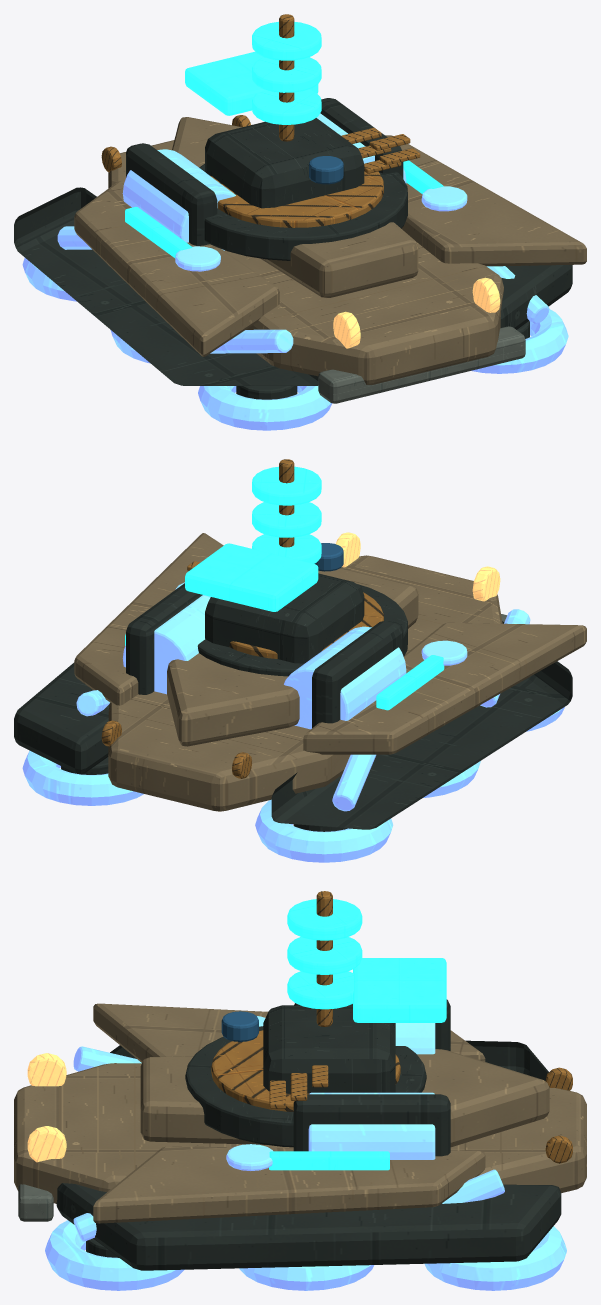
File: lumen_scout.glb
3 renders of one model, top to bottom at view 1: azimuth 30°, elevation 25°; view 2: azimuth 150°, elevation 25°; view 3: azimuth 270°, elevation 25°, orthographic. The views are drawn at different scales.
Parts seen in each view (by area): view 1: Faction detail · Vehicle / armor_light.008, Faction detail · Vehicle / dark.008, Prisma · swept faceted hover hull, Faction detail · Vehicle / energy.002, Faction detail · Vehicle / dark.001, TeamColor flank details, Indexed azimuth bearing, Forward aerodynamic splitter, TeamColor, TeamColor flank details.001, Faction detail · Vehicle / hazard.008, Faction detail · Vehicle / amber.008 (+3 smaller); view 2: Faction detail · Vehicle / armor_light.008, Faction detail · Vehicle / dark.008, Prisma · swept faceted hover hull, Faction detail · Vehicle / energy.002, Faction detail · Vehicle / dark.001, TeamColor, TeamColor flank details, TeamColor flank details.001, Faction detail · Vehicle / amber.008, Indexed azimuth bearing, Faction detail · Vehicle / red.008, Tri-band target sensor (+1 smaller); view 3: Faction detail · Vehicle / armor_light.008, Faction detail · Vehicle / dark.008, Prisma · swept faceted hover hull, Faction detail · Vehicle / energy.002, Faction detail · Vehicle / dark.001, TeamColor flank details, TeamColor, Indexed azimuth bearing, TeamColor flank details.001, Faction detail · Vehicle / amber.008, Faction detail · Vehicle / hazard.008, Forward aerodynamic splitter (+3 smaller).
Boxes of the visible parts, x1,y1,x2,y2 form: Faction detail · Vehicle / armor_light.008: (74, 117, 586, 356); Faction detail · Vehicle / dark.008: (14, 98, 572, 399); Prisma · swept faceted hover hull: (108, 140, 503, 384); Faction detail · Vehicle / energy.002: (22, 113, 568, 430); Faction detail · Vehicle / dark.001: (199, 118, 407, 260); TeamColor flank details: (252, 21, 321, 124); Indexed azimuth bearing: (210, 171, 383, 227); Forward aerodynamic splitter: (318, 326, 525, 403); TeamColor: (185, 51, 318, 115); TeamColor flank details.001: (125, 160, 443, 258); Faction detail · Vehicle / hazard.008: (341, 127, 420, 173); Faction detail · Vehicle / amber.008: (333, 277, 500, 348); Faction detail · Vehicle / armor_light.008: (74, 533, 586, 754); Faction detail · Vehicle / dark.008: (14, 583, 572, 831); Prisma · swept faceted hover hull: (108, 555, 502, 811); Faction detail · Vehicle / energy.002: (22, 582, 564, 862); Faction detail · Vehicle / dark.001: (197, 573, 407, 676); TeamColor: (185, 543, 318, 611); TeamColor flank details: (252, 466, 321, 563); TeamColor flank details.001: (125, 634, 444, 710); Faction detail · Vehicle / amber.008: (335, 532, 500, 601); Indexed azimuth bearing: (229, 592, 383, 658); Faction detail · Vehicle / red.008: (101, 720, 251, 778); Tri-band target sensor: (279, 459, 294, 547); Faction detail · Vehicle / armor_light.008: (93, 1003, 549, 1223); Faction detail · Vehicle / dark.008: (56, 999, 561, 1270); Prisma · swept faceted hover hull: (14, 1063, 586, 1203); Faction detail · Vehicle / energy.002: (45, 1016, 566, 1290); Faction detail · Vehicle / dark.001: (185, 1005, 426, 1147); TeamColor flank details: (287, 899, 362, 1009); TeamColor: (353, 958, 446, 1022); Indexed azimuth bearing: (211, 1030, 400, 1111); TeamColor flank details.001: (269, 1151, 389, 1170); Faction detail · Vehicle / amber.008: (27, 1053, 66, 1162); Faction detail · Vehicle / hazard.008: (269, 1065, 328, 1108); Forward aerodynamic splitter: (18, 1184, 53, 1221).
Bounding box in the file's own units: 2.1 × 1.53 × 2.44.
10 materials, 9 textured.
